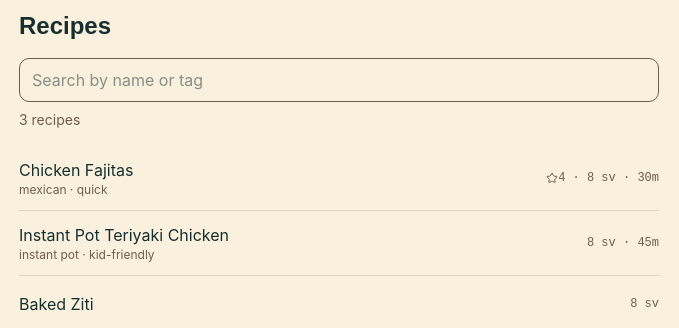
Test: the recipe library › searches the title
The image size is (679, 328).
Step 1. Type "ziti" into the search field → (339, 80), box [19, 58, 659, 102]
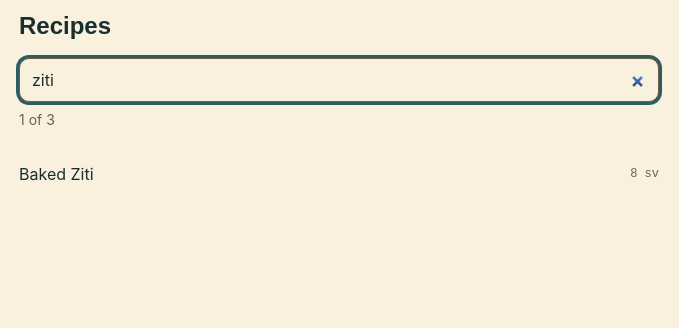
Check: the number of links is 1, box [19, 164, 659, 184]
Check: the text "1 of 3" is shown, box [19, 111, 55, 128]
